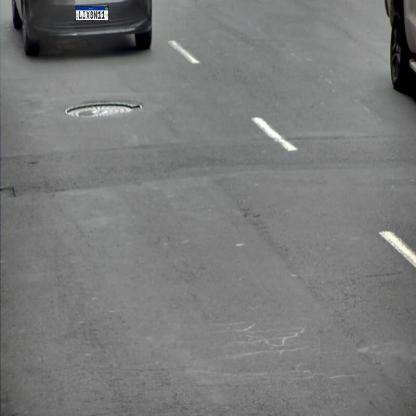PlacaM: (75, 6, 109, 21)
